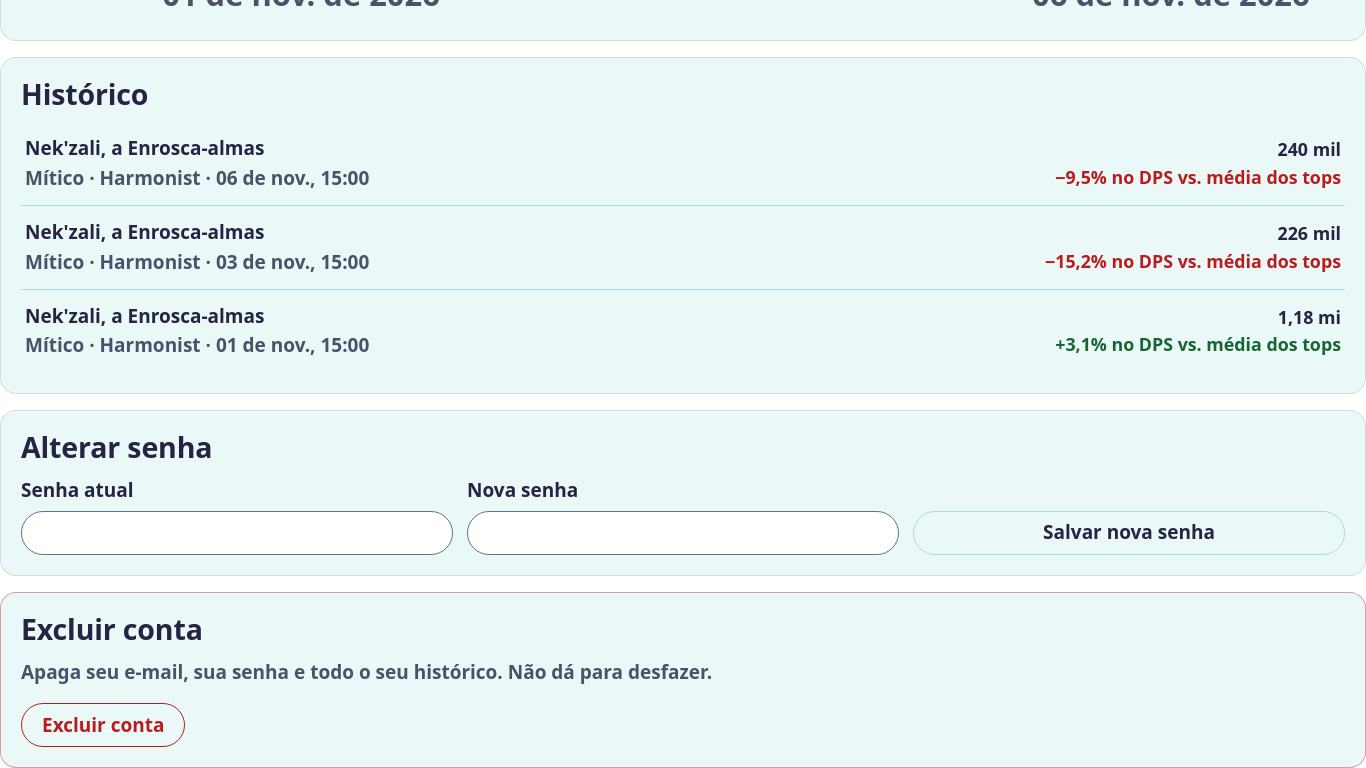
Test case: Profile › alterar senha › nova senha curta é recusada sem chamar a API
(page scrolled)
In the password field labelled "Senha atual": [237, 533] box [21,511,453,555], type "senha-antiga"
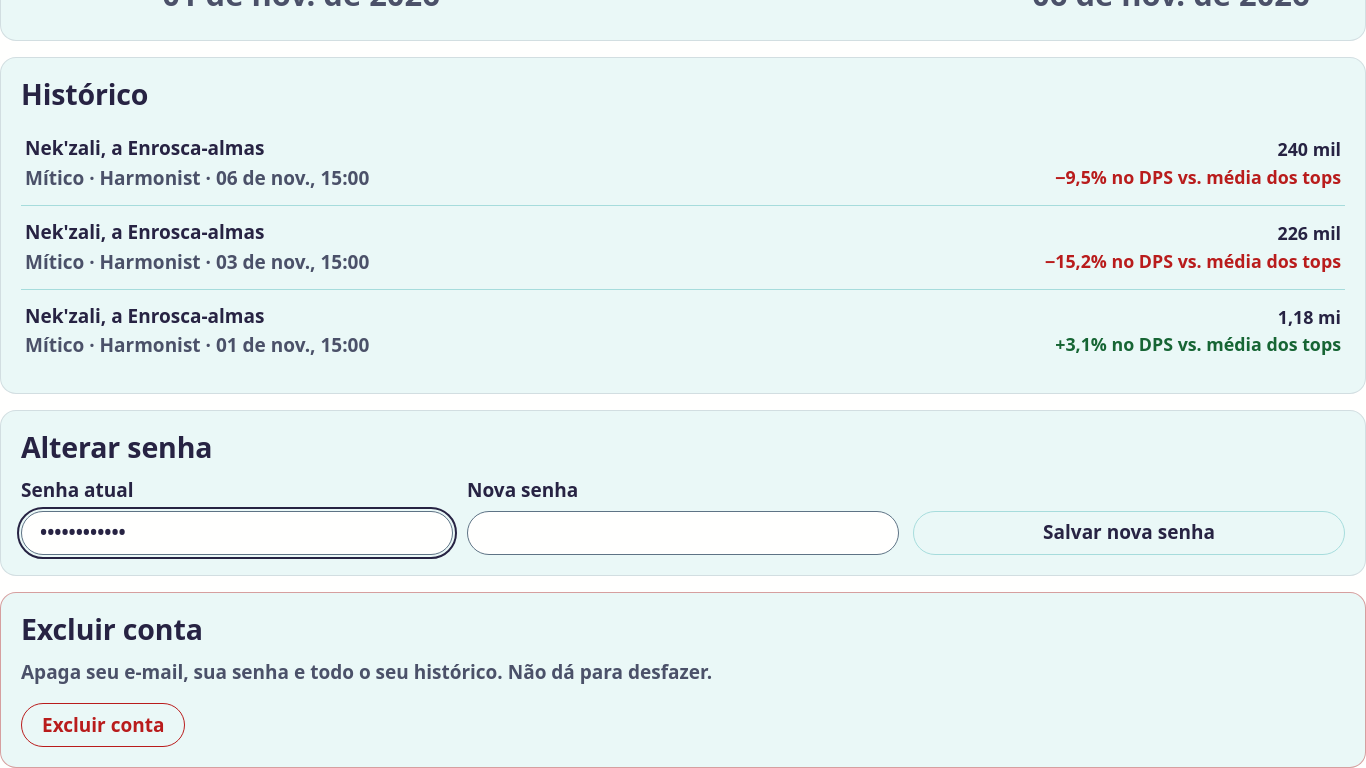
In the password field labelled "Nova senha": [683, 533] box [467,511,899,555], type "1234567"
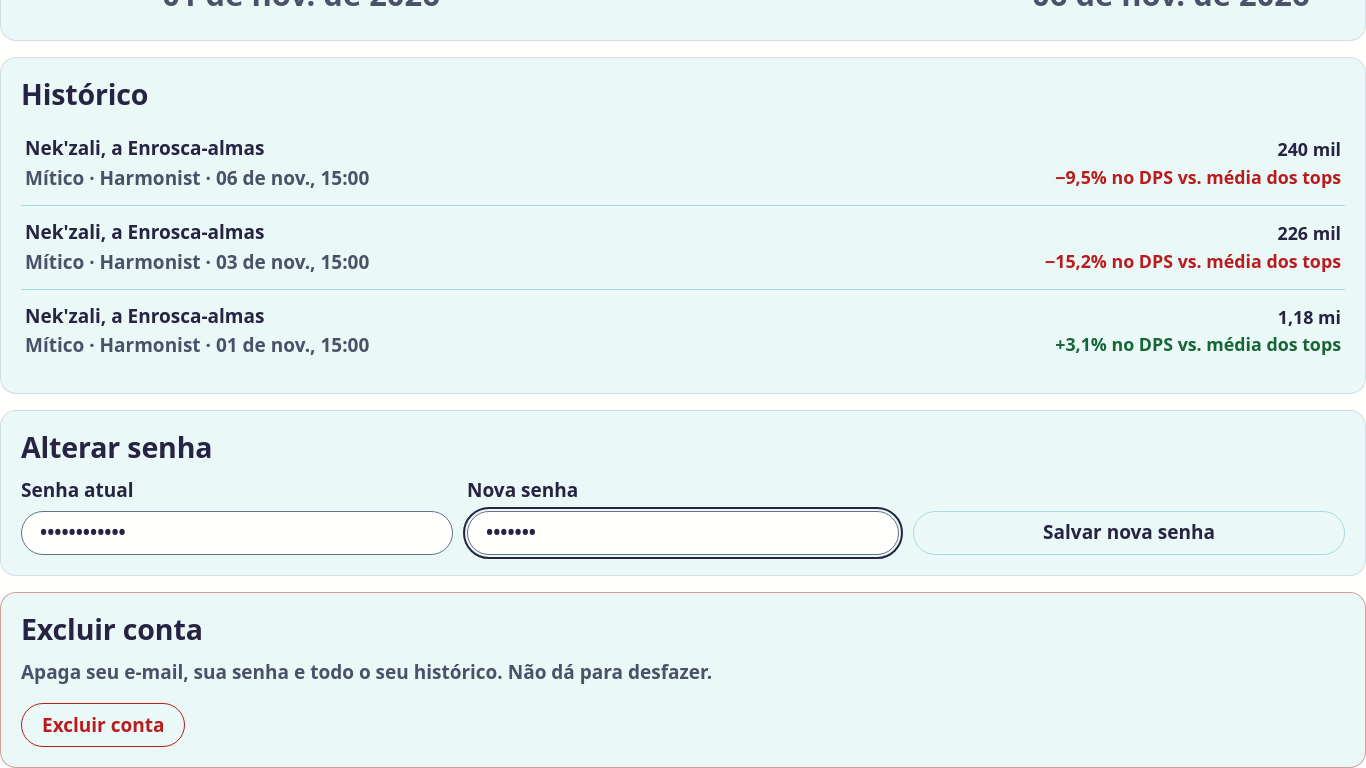
Click the button "Salvar nova senha": [1129, 533] box [913,511,1345,555]
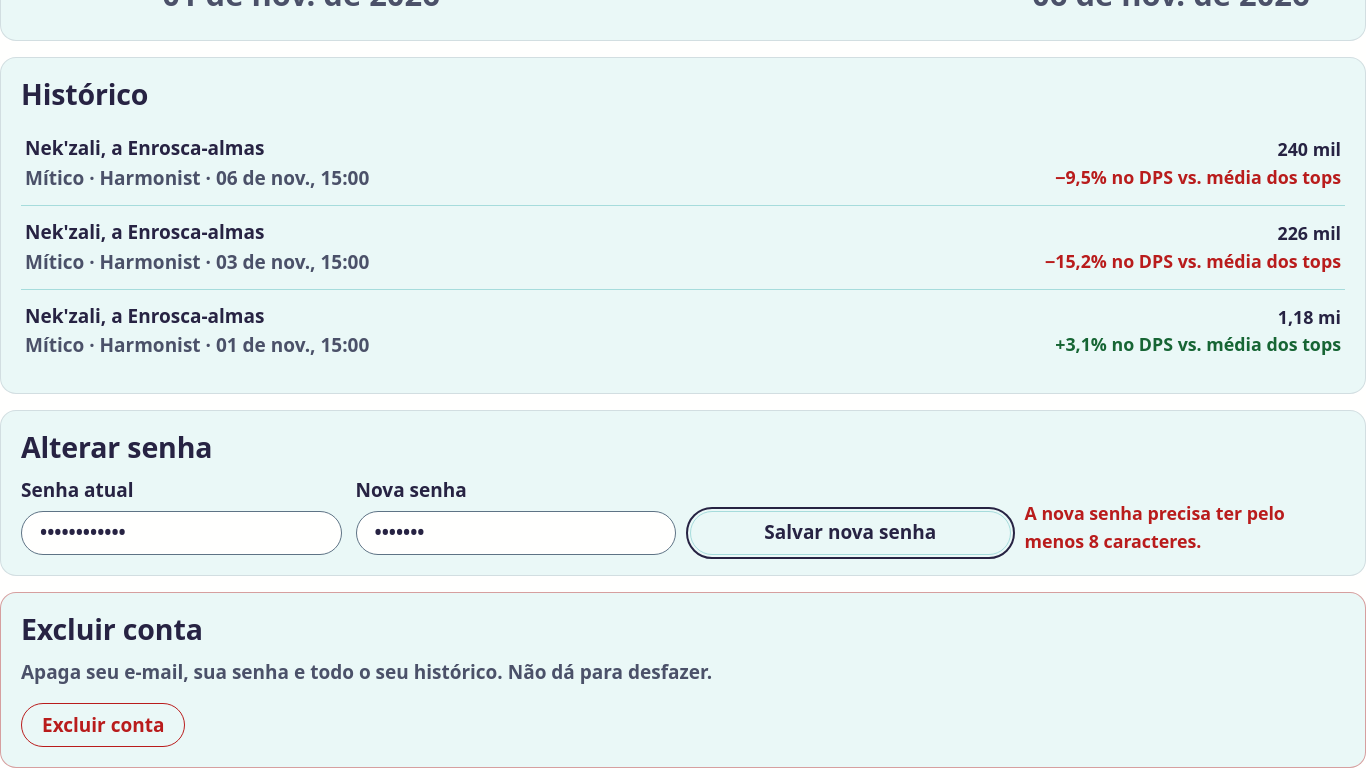
expect the text "A nova senha precisa ter pelo menos 8 caracteres." is shown: met, box [1024,501,1285,552]
